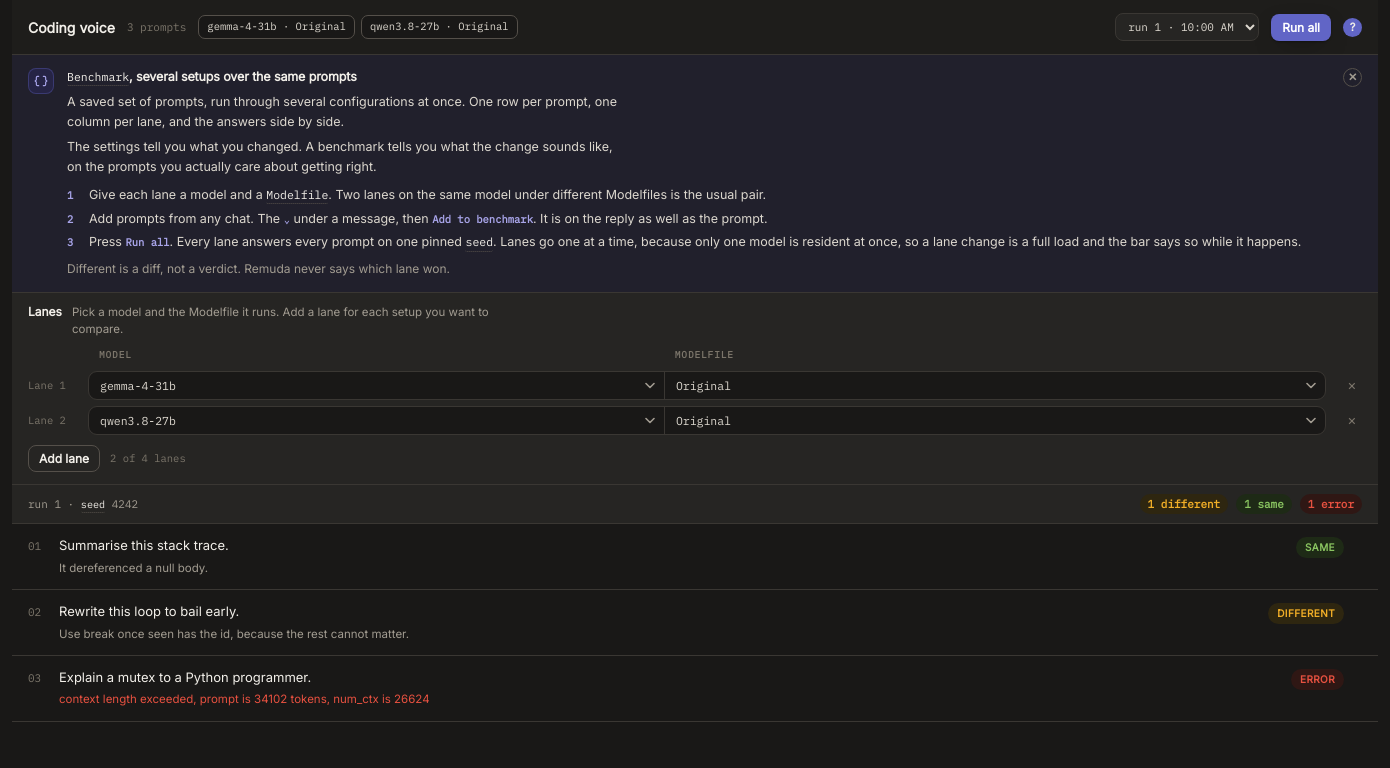
the table › is one row per prompt and one column per lane
Expected: the element with class "benchmark" is shown, [12,524,1378,722]
Expected: the button that starts with "Summarise this stack trace." is shown, [12,524,1378,589]
# One column per lane, once a row is open.
Click the button that starts with "Rewrite this loop to bail early." at (149, 611), box [12,590,1378,655]
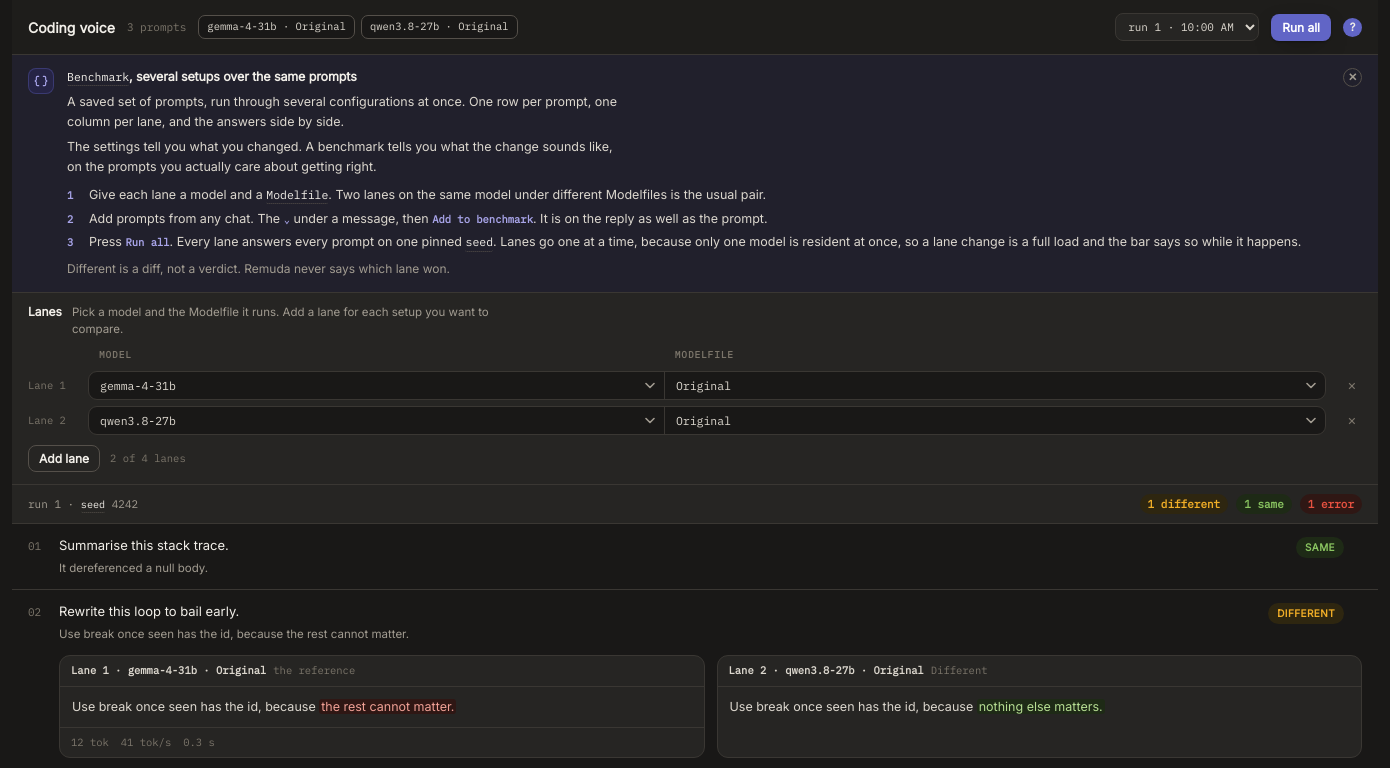
Expected: the number of elements with class "bcol" is 2, [59,655,704,758]; [716,655,1362,758]
Expected: the element with class "bcol" shows "Lane 1 · gemma-4-31b · Original", [71,663,266,677]
Expected: the element with class "bcol" shows "Lane 2 · qwen3.8-27b · Original", [728,663,924,677]
